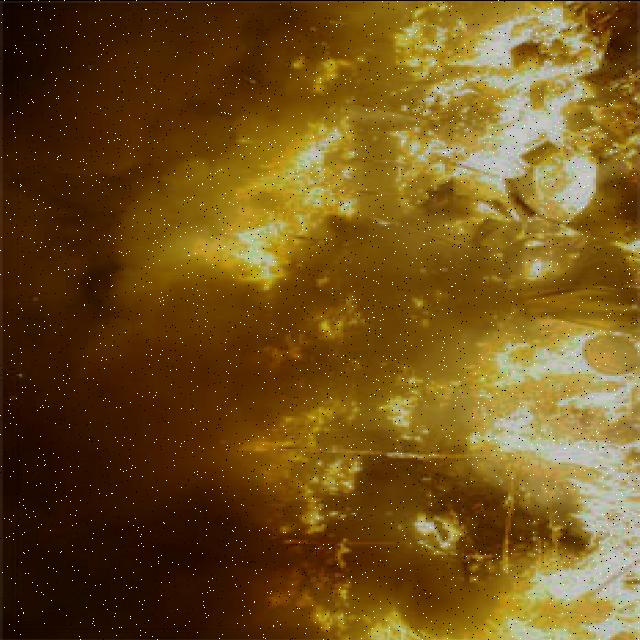api: (402, 15, 592, 223), (507, 333, 638, 634), (216, 138, 342, 274)
asap: (82, 160, 192, 360)
